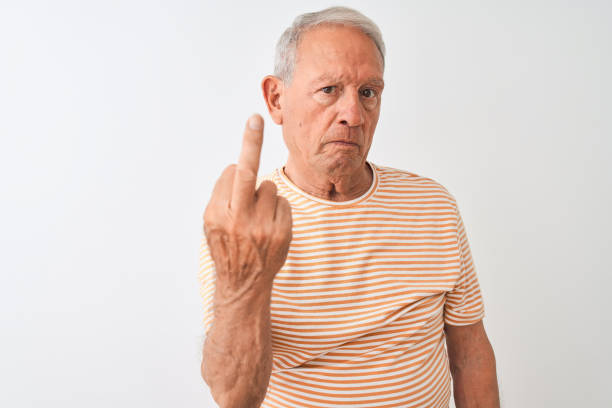insulting_gesture: (203, 113, 294, 285)
